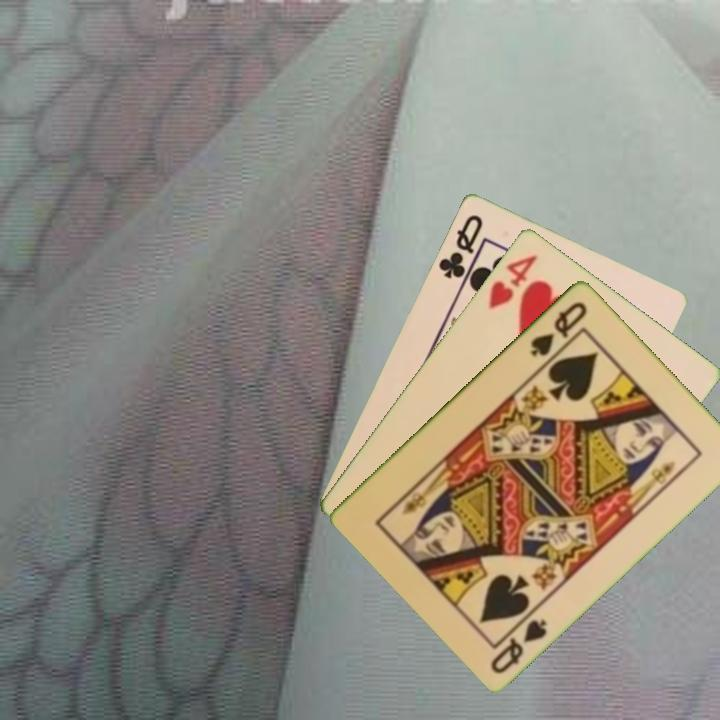4h: (484, 250, 540, 312)
Qc: (434, 210, 486, 289)
Qs: (487, 605, 550, 676), (526, 297, 591, 359)
